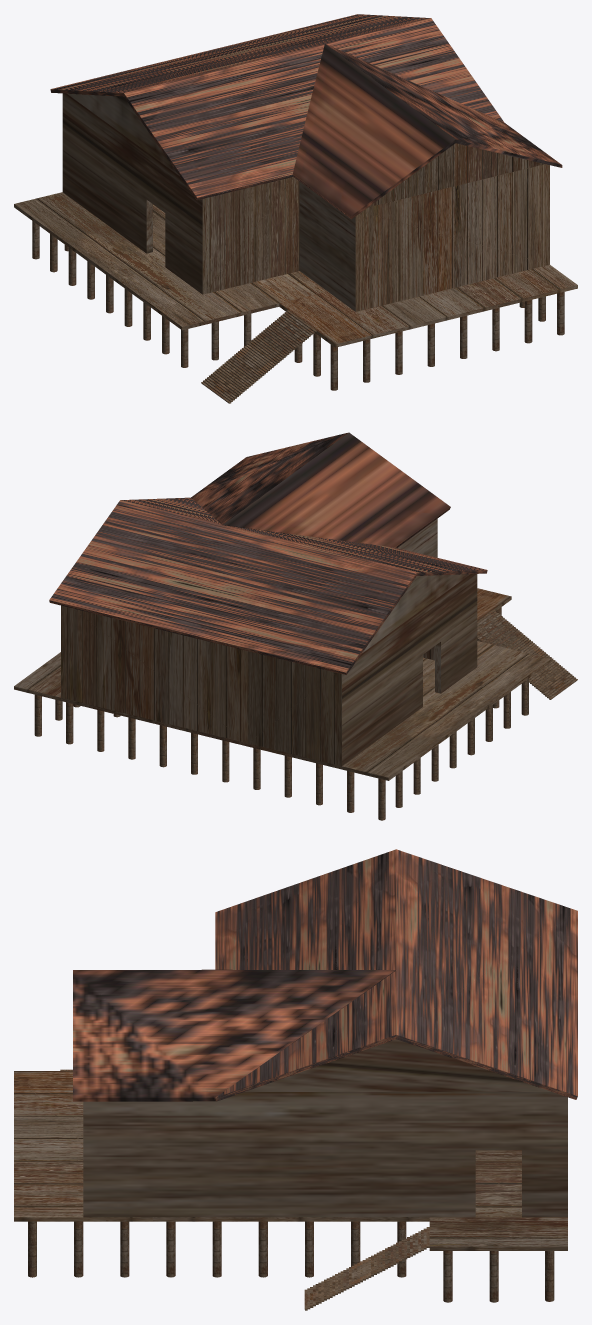
Rendered from Cabin.fbx.
3 renders of one model, top to bottom at view 1: azimuth 30°, elevation 25°; view 2: azimuth 150°, elevation 25°; view 3: azimuth 270°, elevation 25°, orthographic. The views are drawn at different scales.
Parts seen in each view (by area): view 1: Peak, Roof, Floor, Roof2, Stairs2, Cylinder, Cylinder4, Cylinder7; view 2: Peak, Roof, Roof2, Floor, Cylinder2, Stairs2, Cylinder4; view 3: Peak, Roof, Roof2, Floor, Cylinder3, Stairs, Cylinder6.
Boxes of the visible parts, x1,y1,x2,y2 form: Peak: (62,93,549,311); Roof: (50,14,504,200); Floor: (14,192,577,347); Roof2: (292,44,562,219); Stairs2: (201,310,316,403); Cylinder: (330,292,564,390); Cylinder4: (50,234,188,367); Cylinder7: (211,313,251,360); Peak: (61,519,477,766); Roof: (49,497,487,674); Roof2: (191,432,450,547); Floor: (14,588,550,780); Cylinder2: (34,694,385,820); Stairs2: (477,609,577,699); Cylinder4: (395,678,528,807); Peak: (83,1039,567,1217); Roof: (215,849,577,1101); Roof2: (73,969,396,1101); Floor: (14,1071,567,1250); Cylinder3: (74,1221,406,1277); Stairs: (304,1227,429,1310); Cylinder6: (443,1251,498,1302).
Size of the model in its own units: 6000 by 3013 by 6107.
